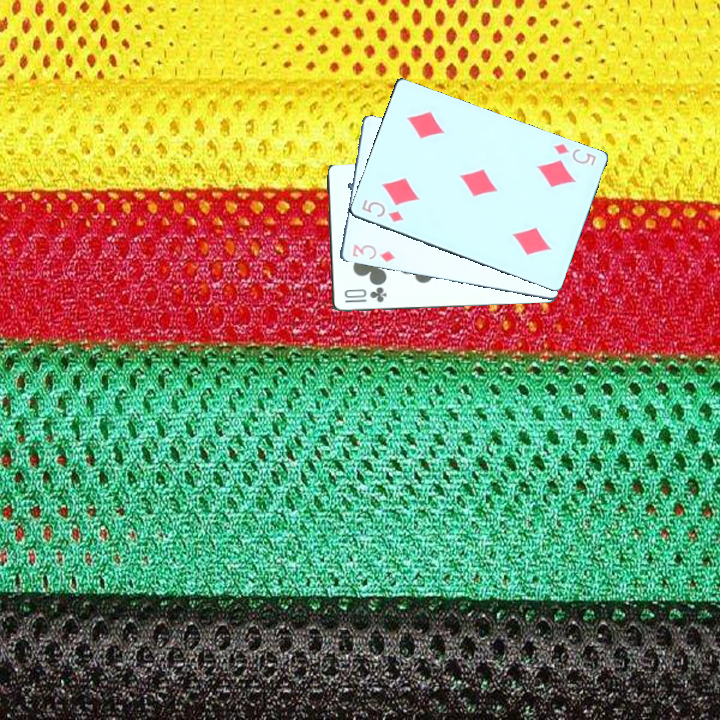10c: (341, 283, 389, 305)
3d: (348, 240, 397, 265)
5d: (357, 195, 406, 225), (550, 139, 599, 169)
